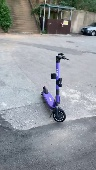beam: (40, 51, 73, 123)
